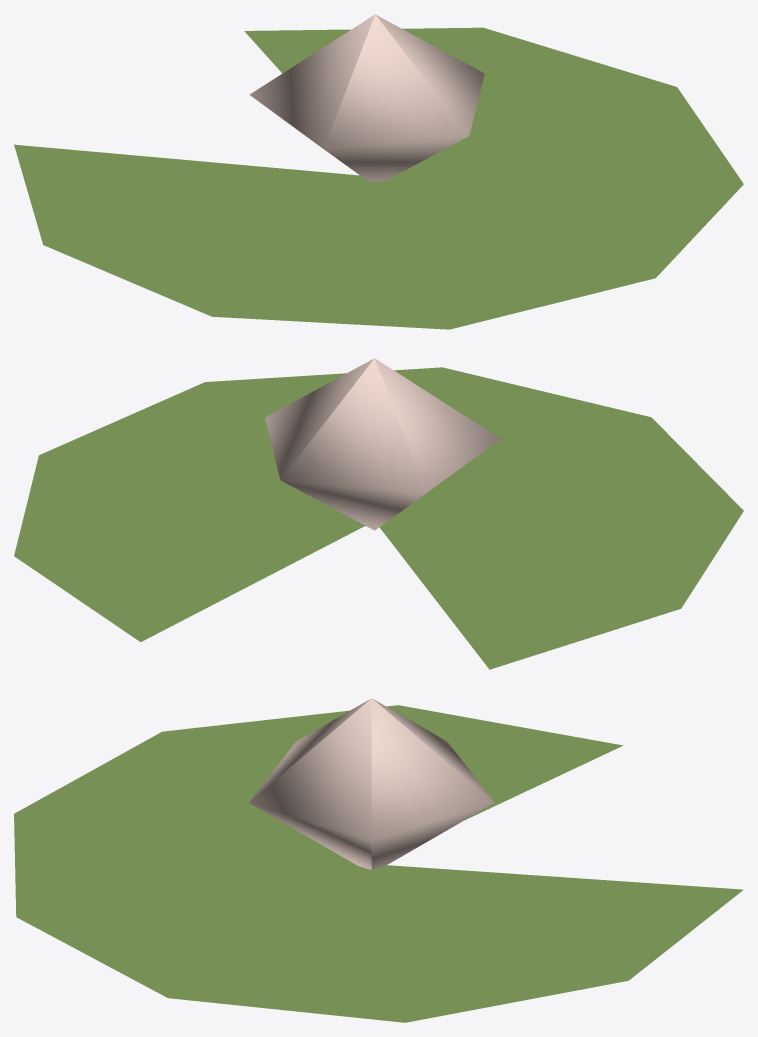
File: lily_pad.fbx
The picture shows the model from 3 angles, top to bottom: view 1: azimuth 30°, elevation 25°; view 2: azimuth 150°, elevation 25°; view 3: azimuth 270°, elevation 25°; orthographic projection. The views are drawn at different scales.
Parts seen in each view (by area): view 1: lily_pad; view 2: lily_pad; view 3: lily_pad.
Part boxes in pixels (box(x1,y1,x2,y2)): lily_pad: box(14, 14, 743, 329); lily_pad: box(14, 358, 743, 669); lily_pad: box(14, 698, 743, 1022).
Bounding box in the file's own units: 0.0698 × 0.018 × 0.0678.
